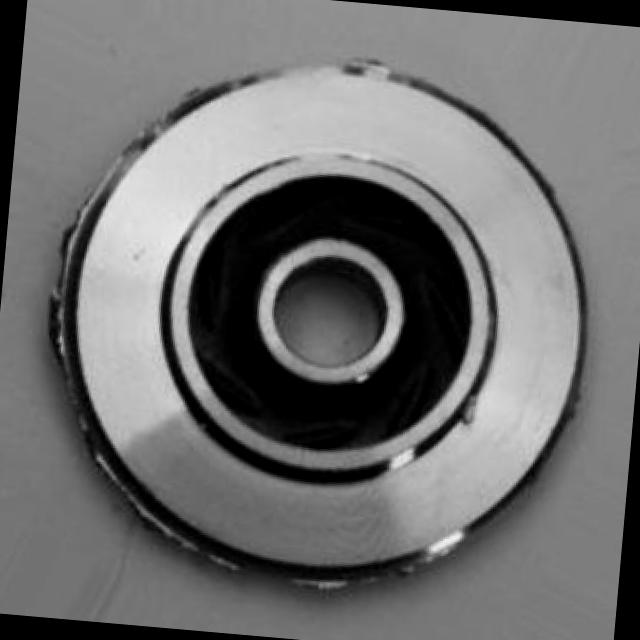Defect: (88, 449, 190, 564)
